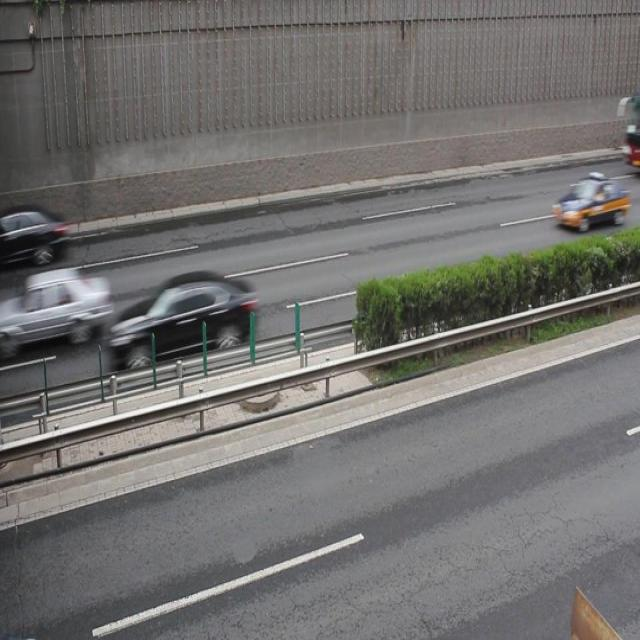car: (109, 273, 254, 365), (14, 266, 110, 350), (1, 207, 67, 267), (553, 174, 619, 232)
